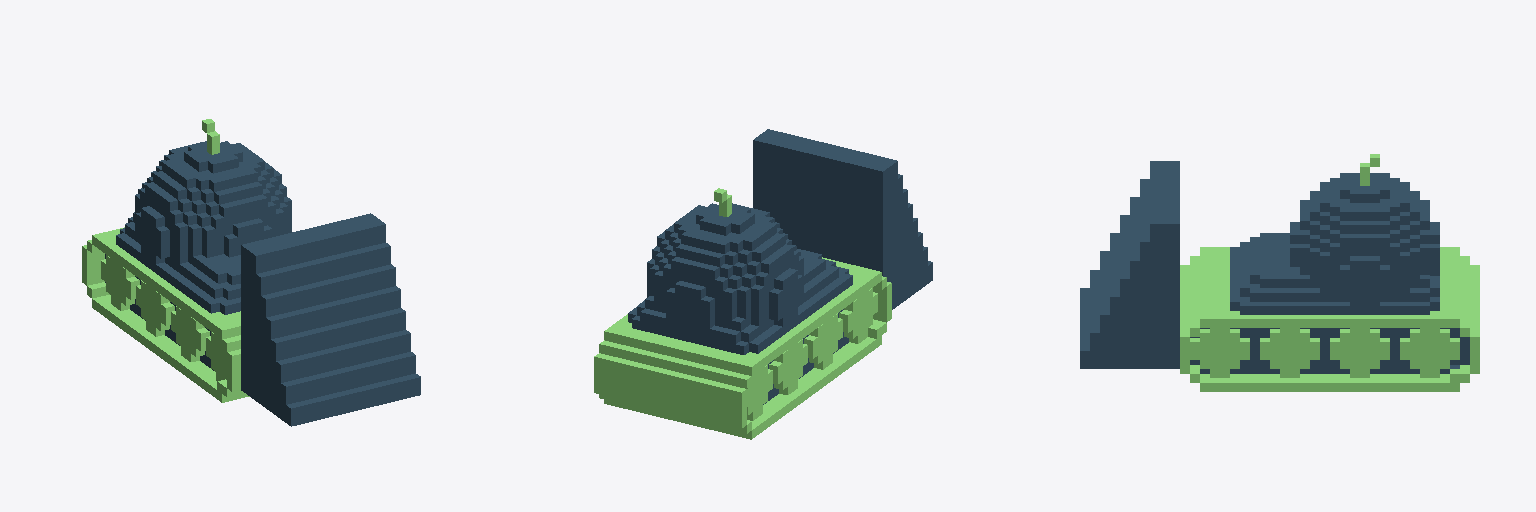
3 renders of one model, left to right at view 1: azimuth 30°, elevation 25°; view 2: azimuth 150°, elevation 25°; view 3: azimuth 270°, elevation 25°, orthographic.
Visible parts, largest first — view 1: object 1; view 2: object 1; view 3: object 1.
Part boxes in pixels (x1,y1,x2,y2): object 1: (82,119,420,426); object 1: (594,129,932,439); object 1: (1080,154,1479,391).
Size of the model in its own units: 1.7 by 2.2 by 4.
1 materials, 1 textured.